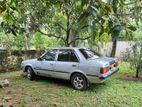car: (22, 48, 120, 90)
